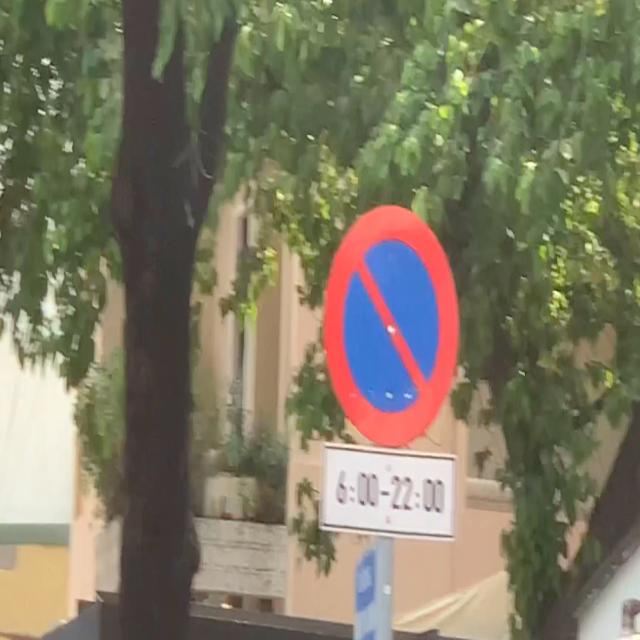Cam do: (322, 201, 462, 440)
